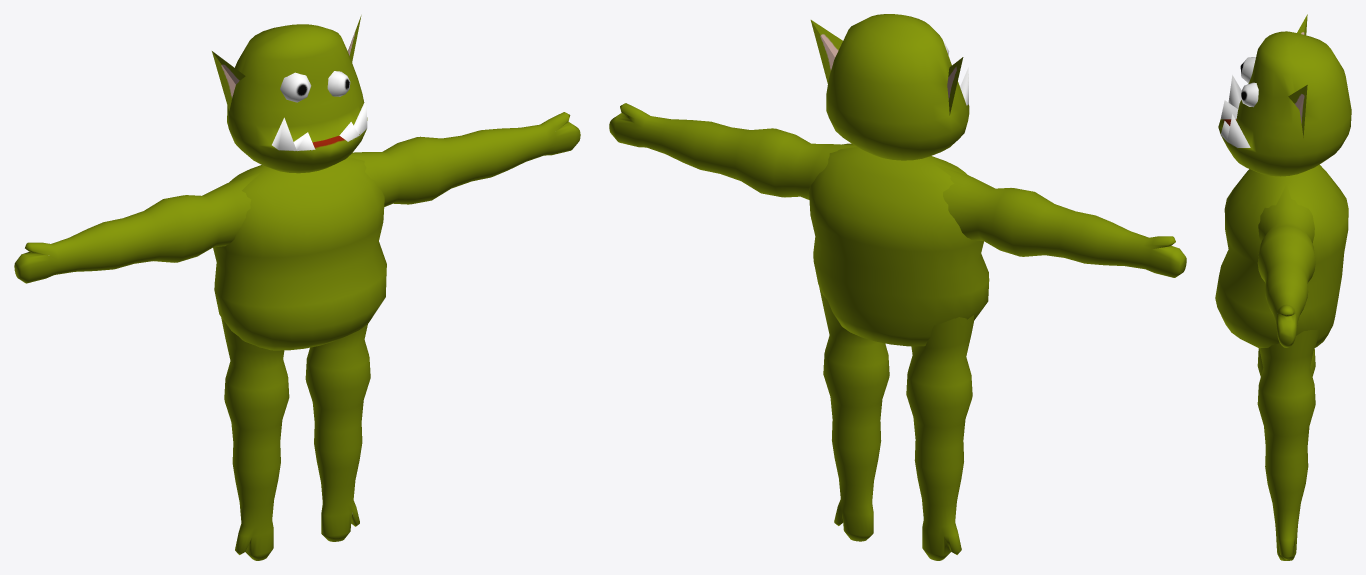
The model's file is orc.fbx.
The picture shows the model from 3 angles, left to right: view 1: azimuth 30°, elevation 25°; view 2: azimuth 150°, elevation 25°; view 3: azimuth 270°, elevation 25°; orthographic projection. The views are drawn at different scales.
Parts seen in each view (by area): view 1: Sphere.009; view 2: Sphere.009; view 3: Sphere.009.
Boxes of the visible parts, x1,y1,x2,y2 form: Sphere.009: (14, 15, 580, 560); Sphere.009: (609, 14, 1186, 560); Sphere.009: (1215, 14, 1351, 560).
Size of the model in its own units: 140 by 125 by 30.77.
